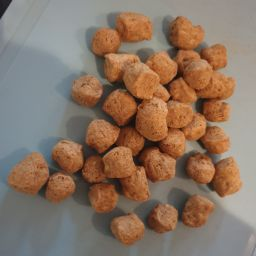Glycine max(soyabean): (16, 6, 254, 246), (21, 115, 119, 207), (176, 13, 242, 138), (127, 55, 192, 154), (83, 11, 166, 85), (197, 101, 243, 214), (108, 201, 215, 233), (179, 191, 220, 226)
